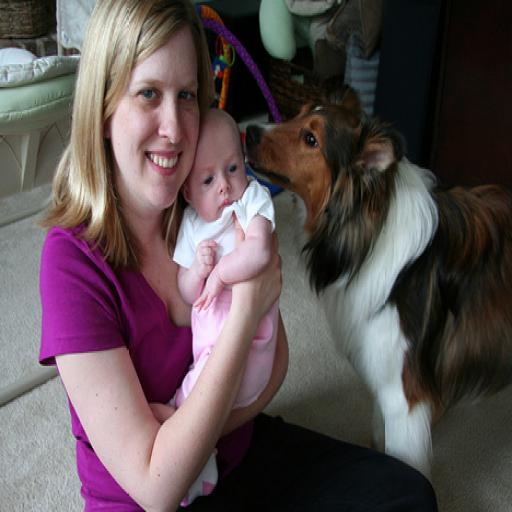dog_face: (248, 73, 403, 227)
